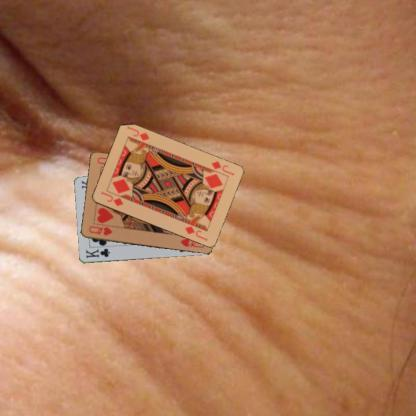Jd: (208, 158, 236, 177), (98, 188, 124, 207)
Kc: (83, 246, 111, 260)
Qh: (86, 223, 113, 237)
